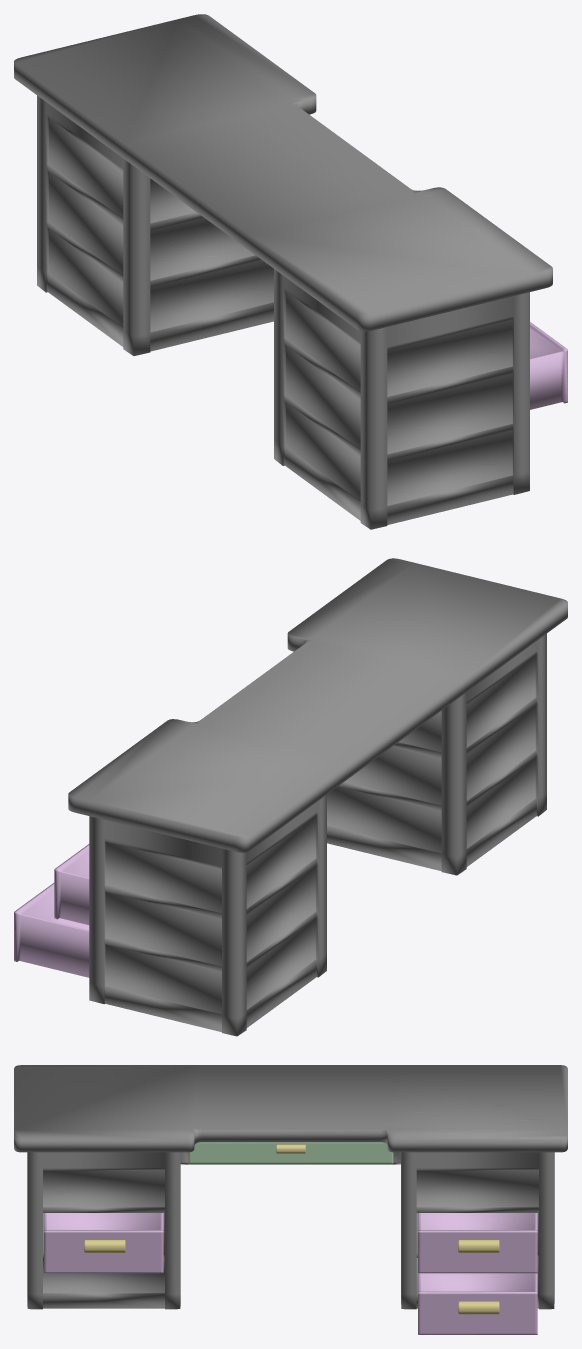
Rendered from desk_finish_res.fbx.
The picture shows the model from 3 angles, top to bottom: view 1: azimuth 30°, elevation 25°; view 2: azimuth 150°, elevation 25°; view 3: azimuth 270°, elevation 25°; orthographic projection. The views are drawn at different scales.
Parts seen in each view (by area): view 1: desk_to_maya:Box002; view 2: desk_to_maya:Box002; view 3: desk_to_maya:Box002.
Boxes of the visible parts, x1=… form: desk_to_maya:Box002: x1=14, y1=14, x2=567, y2=529; desk_to_maya:Box002: x1=14, y1=558, x2=567, y2=1036; desk_to_maya:Box002: x1=14, y1=1065, x2=567, y2=1334.
Bounding box in the file's own units: 352 × 271 × 772.
